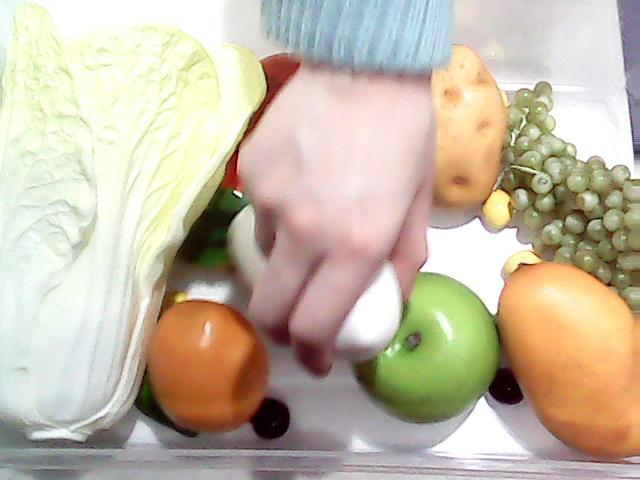apple: (356, 253, 509, 431)
grape: (502, 81, 640, 317)
lemon: (137, 299, 297, 451)
mango: (495, 257, 640, 460)
napa cabbage: (0, 8, 264, 456)
peach: (234, 52, 306, 188)
potato: (430, 43, 508, 209)
radish: (179, 188, 405, 358)
